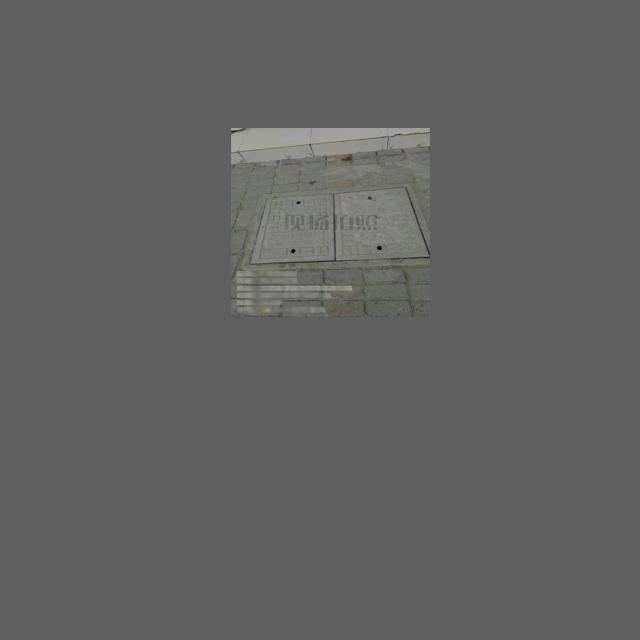good: (247, 184, 430, 269)
